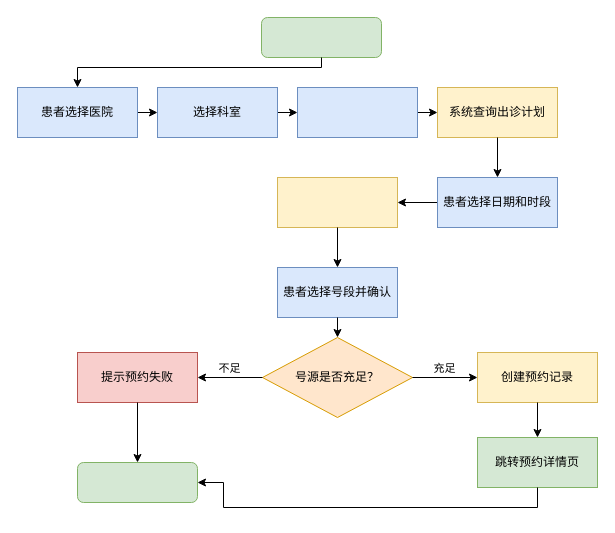
Image size: 615x533. Some labels were removed from this diagram. The shapes that lost their labels are listed below. From the top down, each one's box as (x1, y1, x2, y2) in pixels, then its label:
(260, 16, 382, 58): 开始
(296, 86, 418, 138): 选择医生
(276, 176, 398, 228): 系统查询剩余号源
(76, 462, 198, 502): 结束
